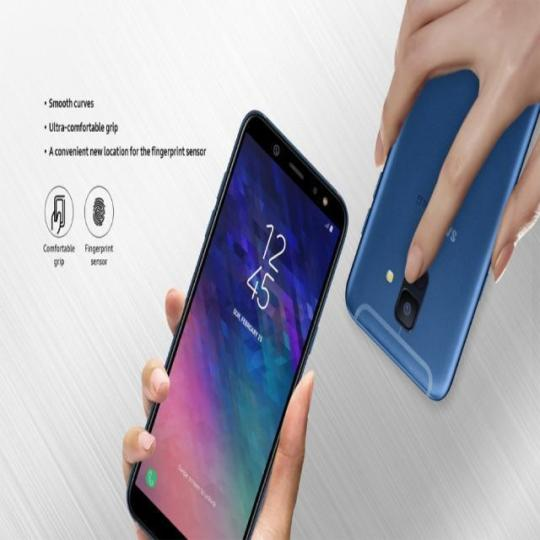phone: (104, 108, 351, 540), (345, 34, 540, 403)
